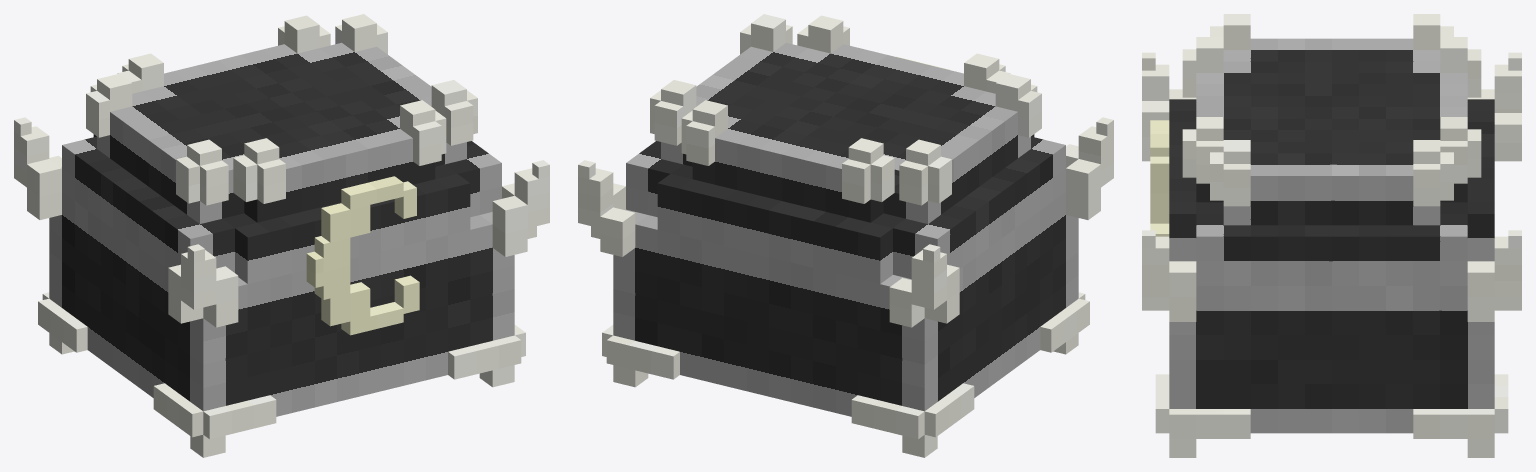
File: lunar_chest.gltf
3 renders of one model, left to right at view 1: azimuth 30°, elevation 25°; view 2: azimuth 150°, elevation 25°; view 3: azimuth 270°, elevation 25°, orthographic. The views are drawn at different scales.
Visible parts, largest first — view 1: up, base, cube (×37); view 2: up, base, cube (×26); view 3: up, base, cube (×35).
Boxes of the visible parts, box(x1,y1,x2,y2) form: up: box(62, 42, 501, 283); base: box(49, 192, 514, 457); cube (×37): box(14, 14, 549, 439); up: box(626, 42, 1065, 283); base: box(613, 192, 1078, 457); cube (×26): box(578, 14, 1113, 439); up: box(1169, 38, 1494, 285); base: box(1169, 286, 1494, 457); cube (×35): box(1142, 14, 1521, 438).
Size of the model in its own units: 0.8 by 0.6 by 0.7.
2 materials, 2 textured.
